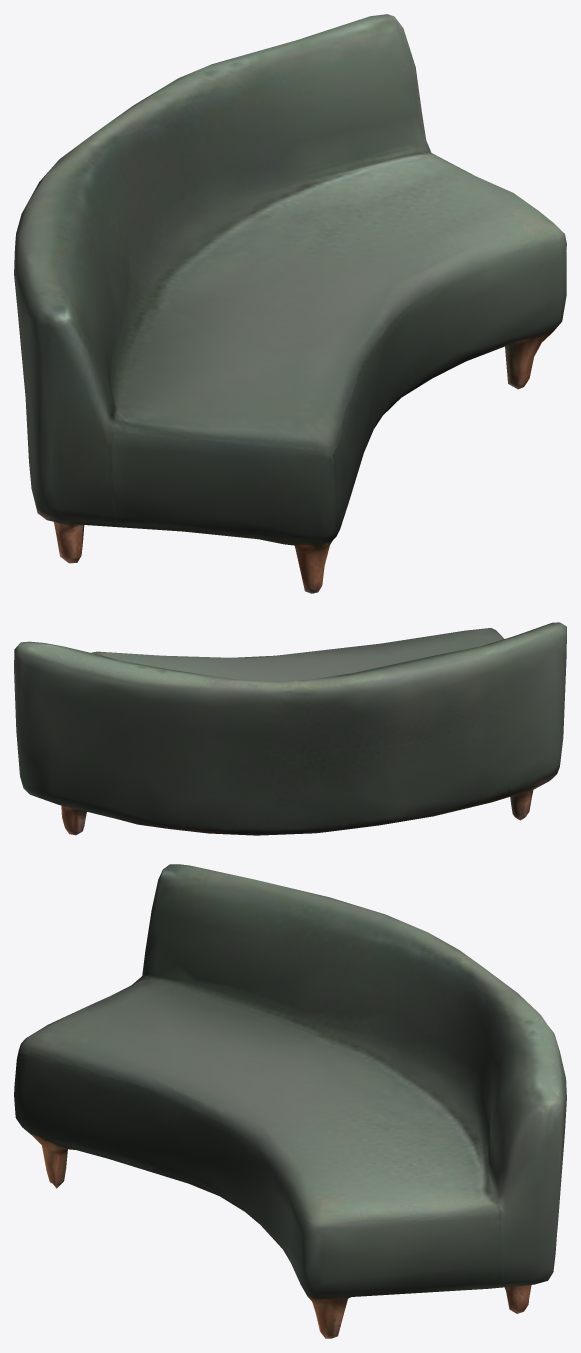
The model's file is sofa.obj.
The picture shows the model from 3 angles, top to bottom: view 1: azimuth 30°, elevation 25°; view 2: azimuth 150°, elevation 25°; view 3: azimuth 270°, elevation 25°; orthographic projection. The views are drawn at different scales.
Parts seen in each view (by area): view 1: geometry_0; view 2: geometry_0; view 3: geometry_0.
Boxes of the visible parts, left/top/right/bottom form: geometry_0: left=14, top=14, right=566, bottom=593; geometry_0: left=14, top=622, right=566, bottom=835; geometry_0: left=14, top=864, right=566, bottom=1338.
Bounding box in the file's own units: 1.62 × 0.7191 × 1.49.
1 material, 1 textured.
